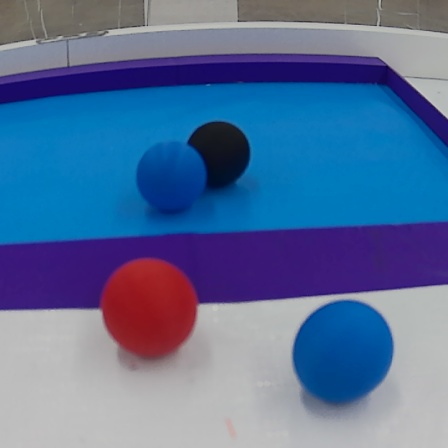black: (192, 115, 255, 192)
blue: (289, 295, 395, 407), (134, 143, 211, 219)
blue_aim: (2, 56, 448, 312)
red: (103, 254, 201, 360)
